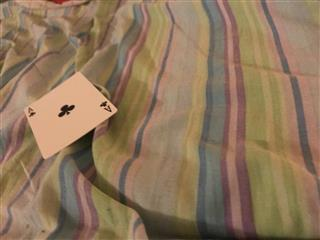AceOfClubs: (23, 71, 118, 159)
